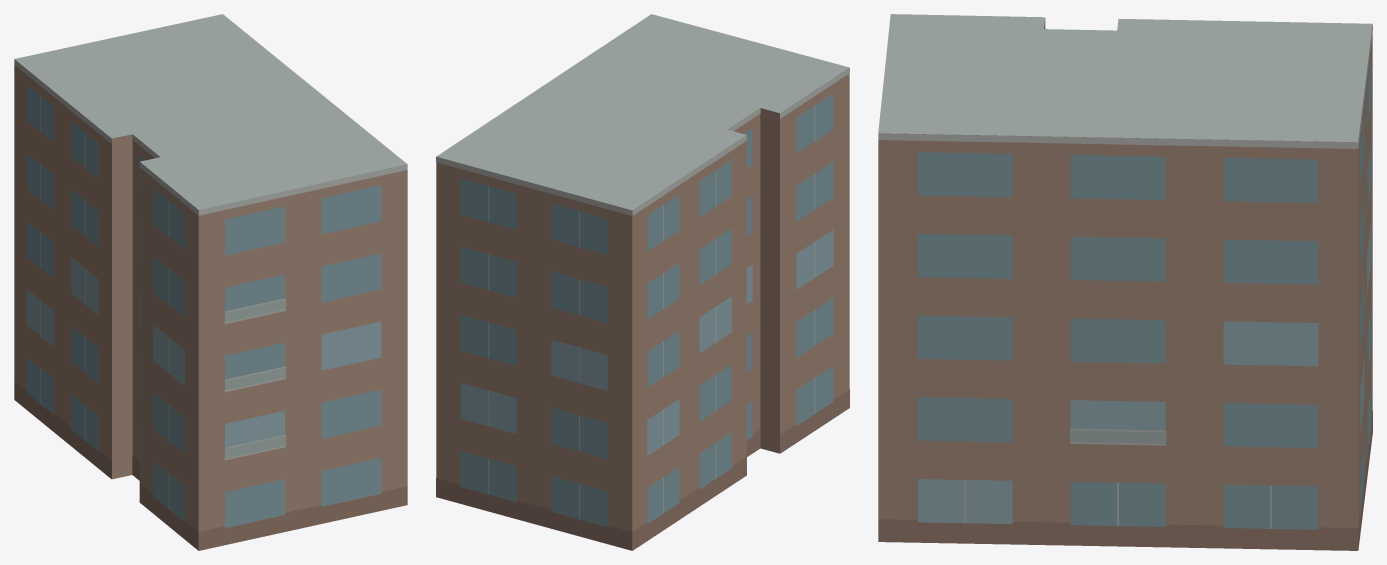
The model's file is survey-upis-32766614.glb.
The picture shows the model from 3 angles, left to right: view 1: azimuth 30°, elevation 25°; view 2: azimuth 150°, elevation 25°; view 3: azimuth 270°, elevation 25°; orthographic projection. The views are drawn at different scales.
Parts seen in each view (by area): view 1: survey-upis-32766614.tmp; view 2: survey-upis-32766614.tmp; view 3: survey-upis-32766614.tmp.
Part boxes in pixels (bbox=[...]): survey-upis-32766614.tmp: bbox=[14, 14, 407, 550]; survey-upis-32766614.tmp: bbox=[436, 14, 849, 550]; survey-upis-32766614.tmp: bbox=[878, 14, 1372, 550].
Bounding box in the file's own units: 9.9 × 14.7 × 16.13.
